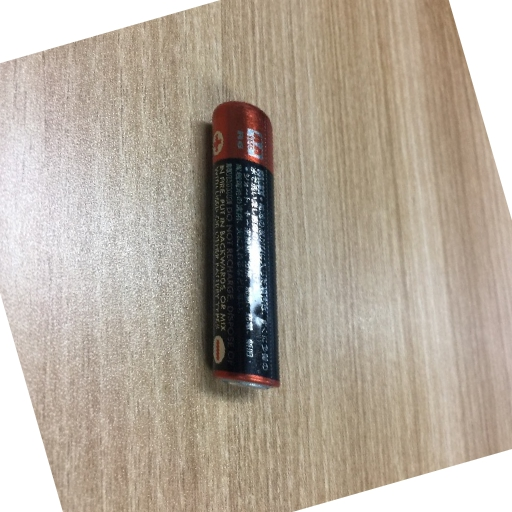Battery_0: (188, 87, 295, 415)
